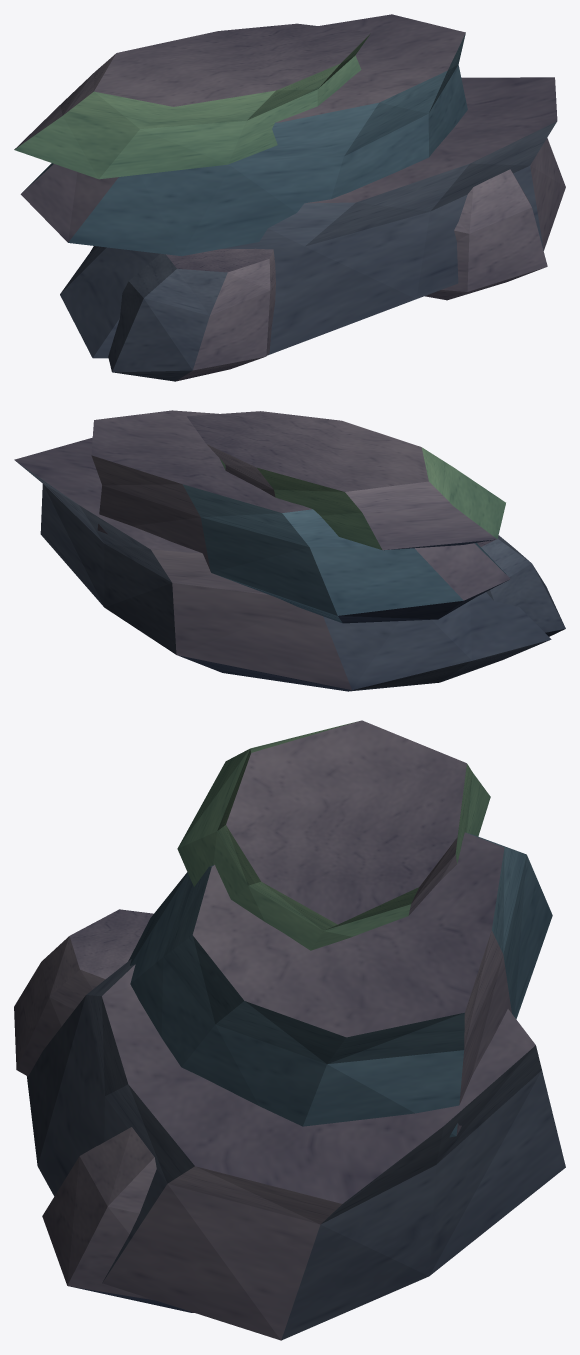
Rendered from Roca_Laja_Escalonada.fbx.
The picture shows the model from 3 angles, top to bottom: view 1: azimuth 30°, elevation 25°; view 2: azimuth 150°, elevation 25°; view 3: azimuth 270°, elevation 25°; orthographic projection. The views are drawn at different scales.
Visible parts, largest first — view 1: Roca_Laja_Escalonada; view 2: Roca_Laja_Escalonada; view 3: Roca_Laja_Escalonada.
Part boxes in pixels (left/top/right/bottom): Roca_Laja_Escalonada: left=14, top=14, right=565, bottom=381; Roca_Laja_Escalonada: left=14, top=410, right=565, bottom=691; Roca_Laja_Escalonada: left=14, top=720, right=565, bottom=1340.
Size of the model in its own units: 10.6 by 6.19 by 4.17.
Materials: 1 (1 with a texture image).
